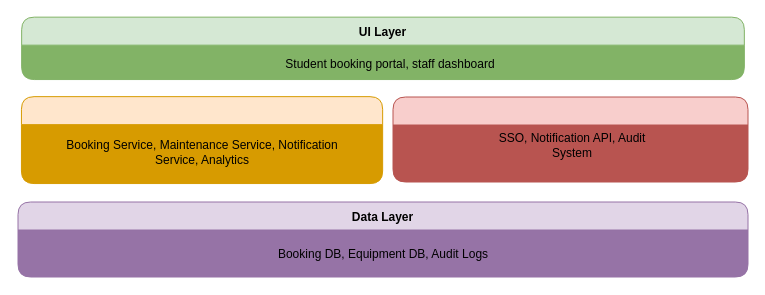
Some shapes in this 765 by 295 pixel diagram are drawn without their labels. Here are the shapes that lost their labels. From the top down, the box of each, then its label:
(20, 96, 383, 184): Application Layer
(392, 96, 748, 182): Integrations
